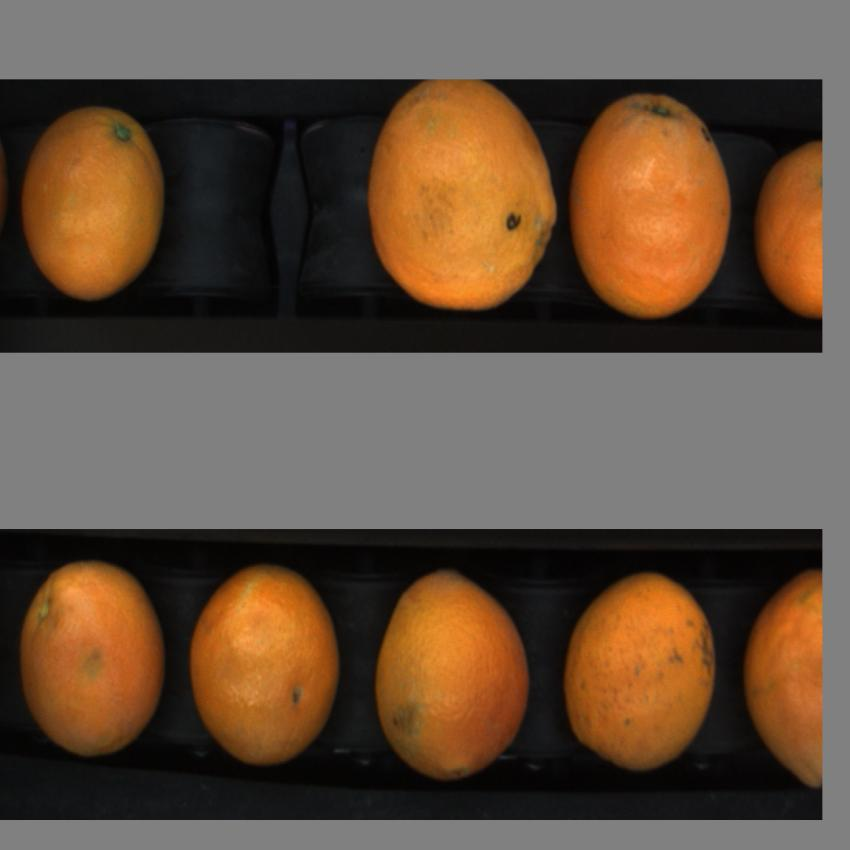Buen estado: (366, 82, 564, 319), (567, 83, 737, 334), (368, 560, 542, 798), (187, 557, 353, 790), (561, 566, 721, 787), (18, 548, 170, 778), (17, 95, 169, 311), (742, 563, 822, 815)
Mal estado: (750, 125, 825, 341)
